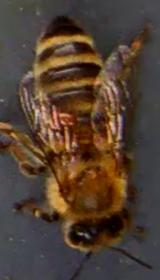varroa_mite: (52, 107, 80, 130)
